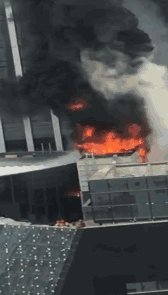fire: (71, 117, 156, 164)
smoke: (12, 4, 152, 100)
